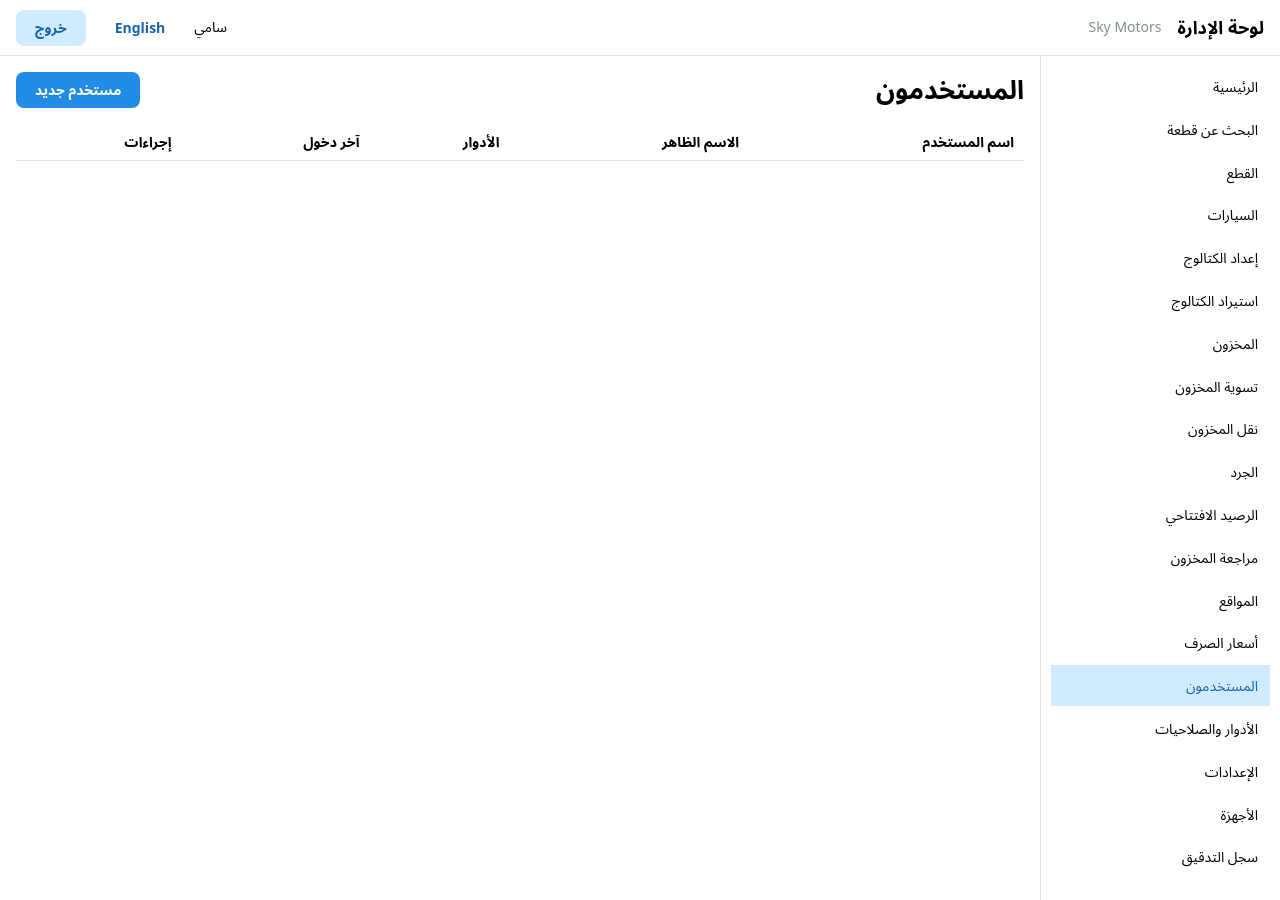
Test case: users page › shows field-level validation messages from the API in Arabic
Click the button "مستخدم جديد" at (78, 90), box top-left (16, 72), bottom-right (140, 108)
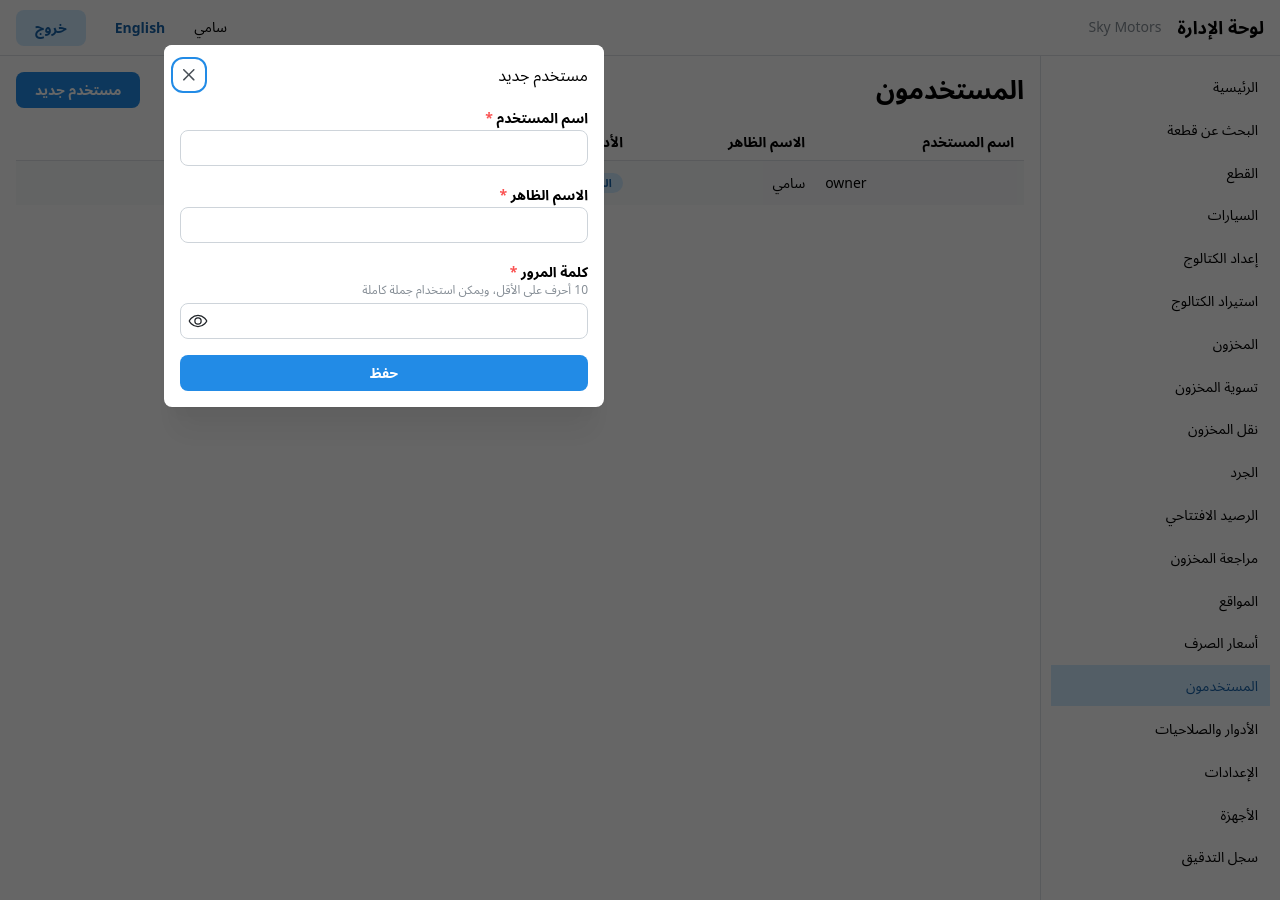
Type "x" into the field labelled "اسم المستخدم" at (384, 148), box top-left (180, 130), bottom-right (588, 166)
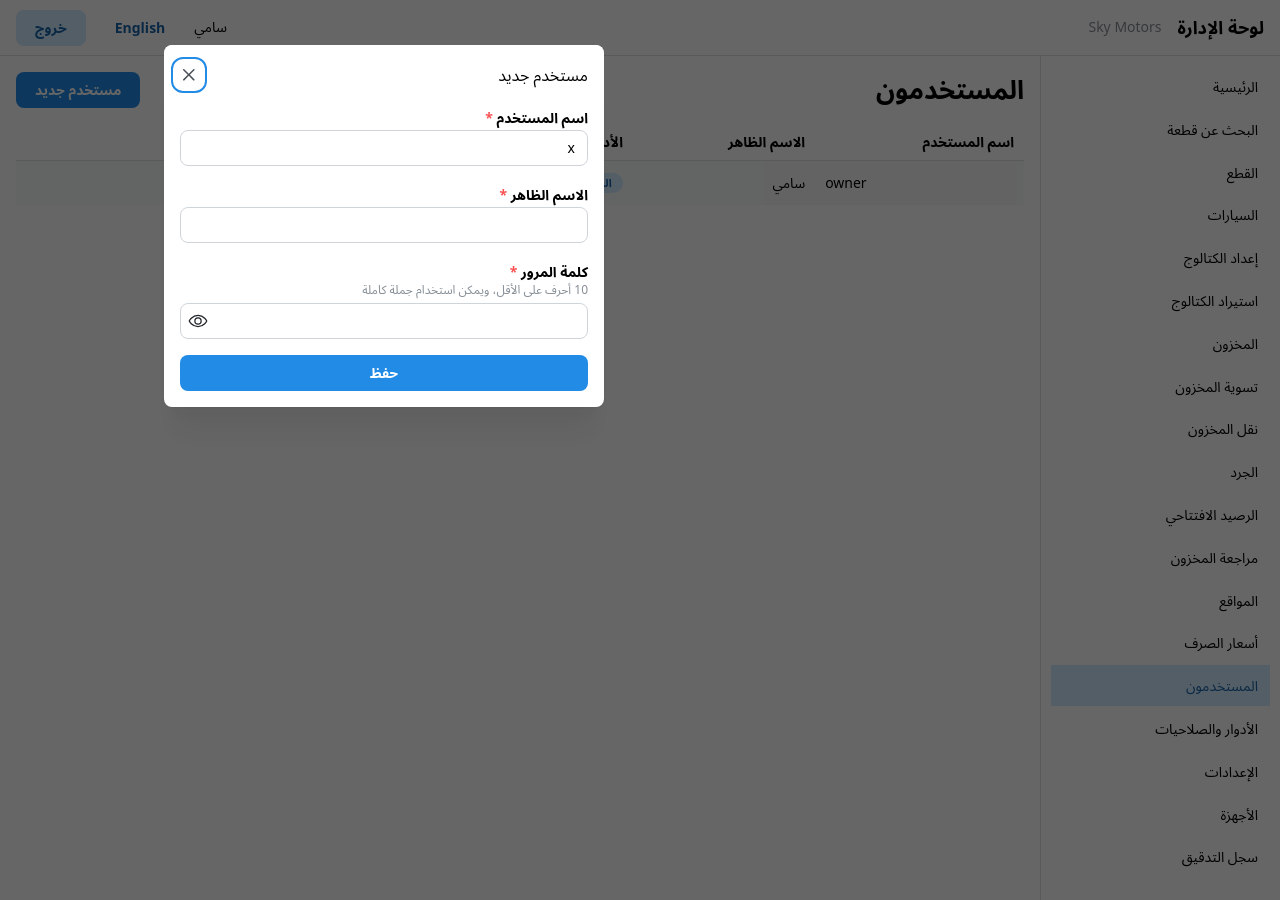
Type "x" into the field labelled "الاسم الظاهر" at (384, 225), box top-left (180, 207), bottom-right (588, 243)
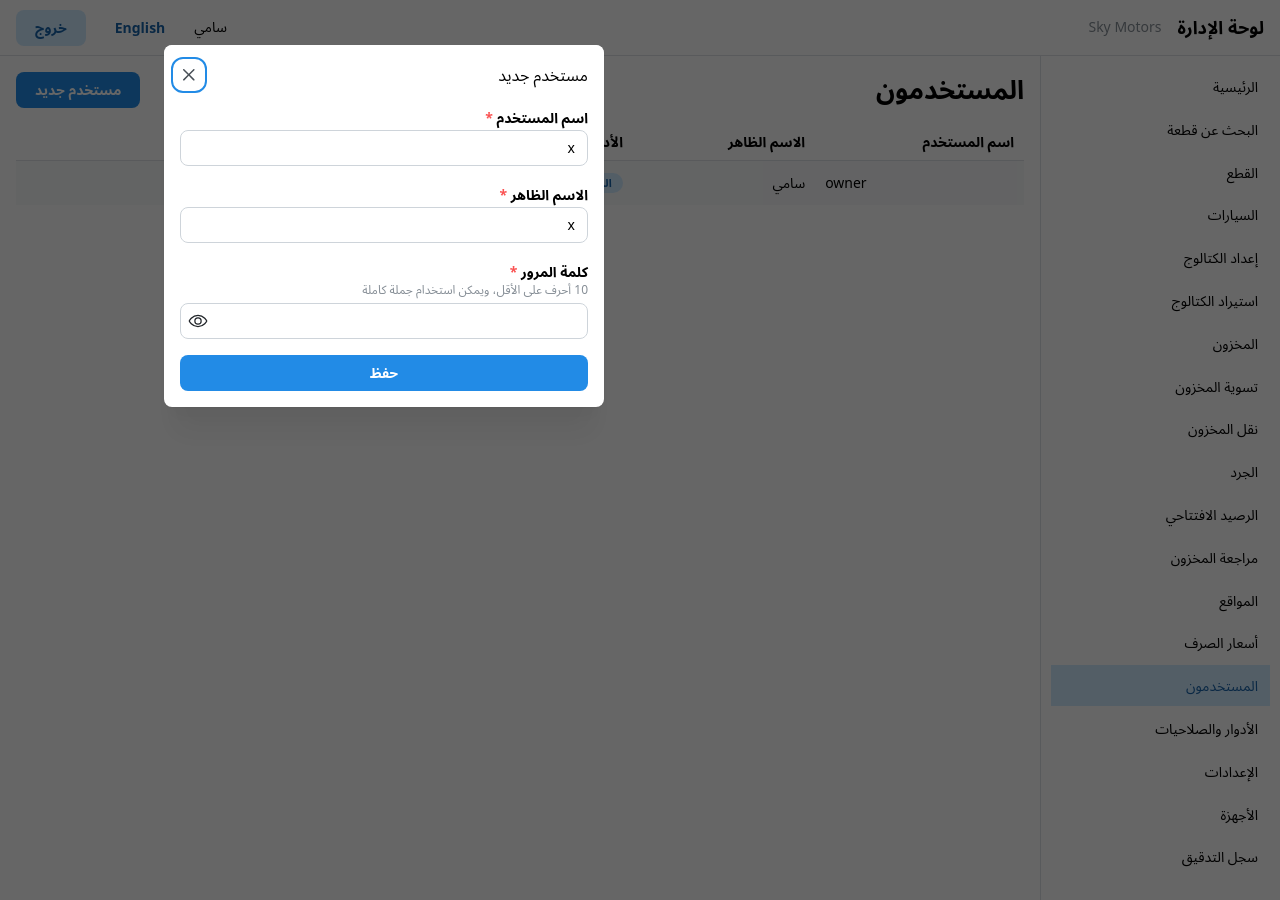
Type "x" into the password field labelled "كلمة المرور" at (384, 321), box top-left (181, 304), bottom-right (587, 338)
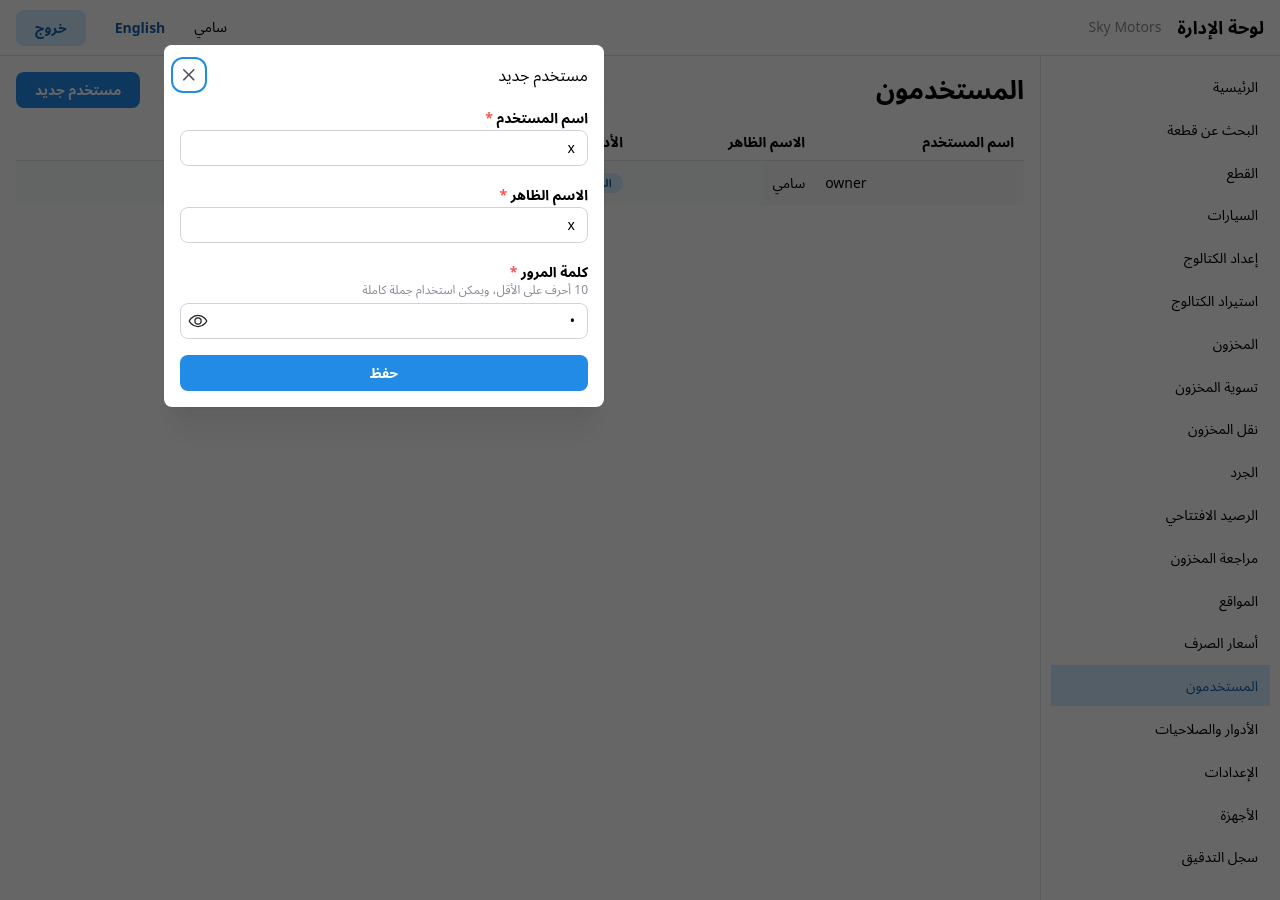
Click the button "حفظ" at (384, 373), box top-left (180, 355), bottom-right (588, 391)
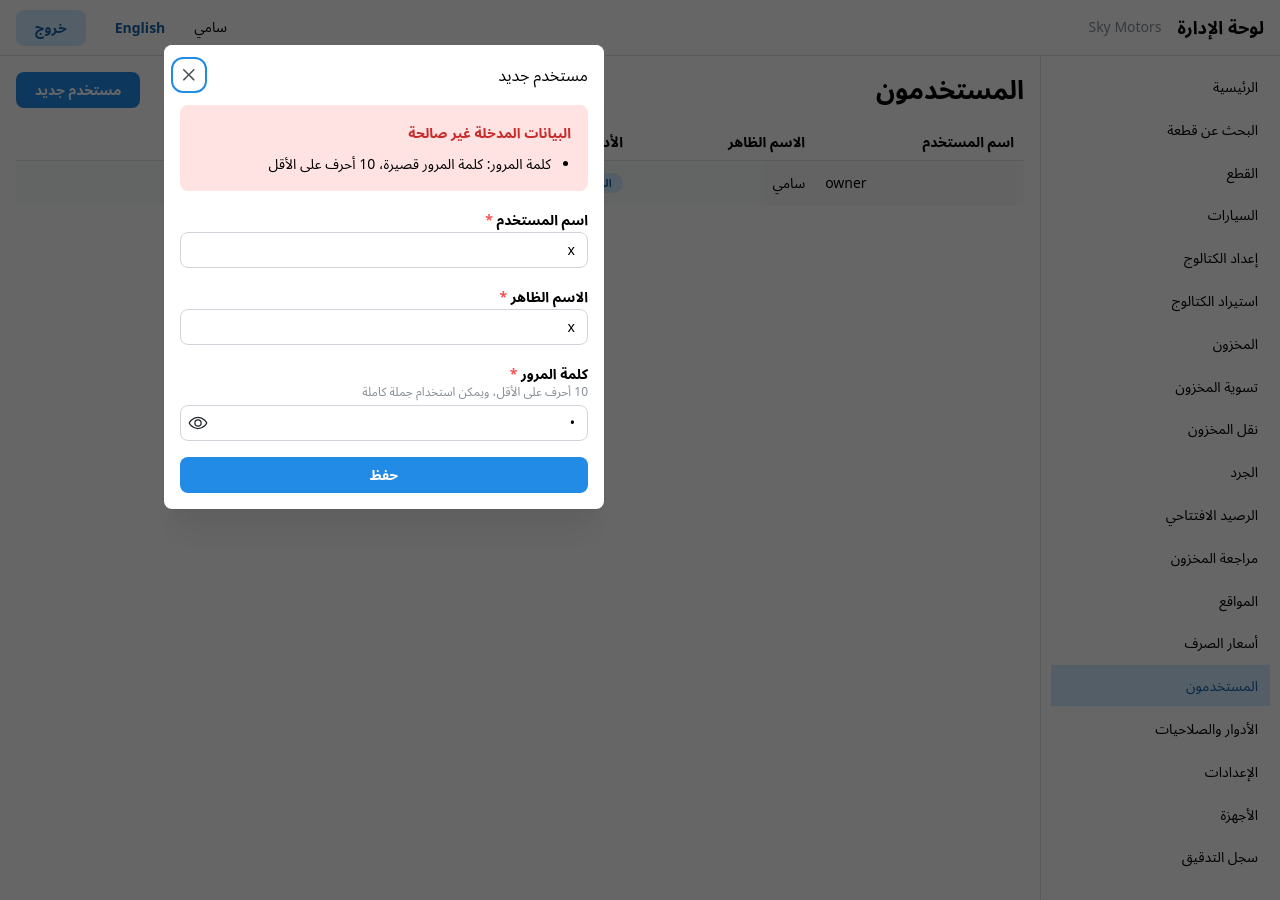
expect the message shows "كلمة المرور قصيرة، 10 أحرف على الأقل": met, box top-left (268, 154), bottom-right (551, 173)
